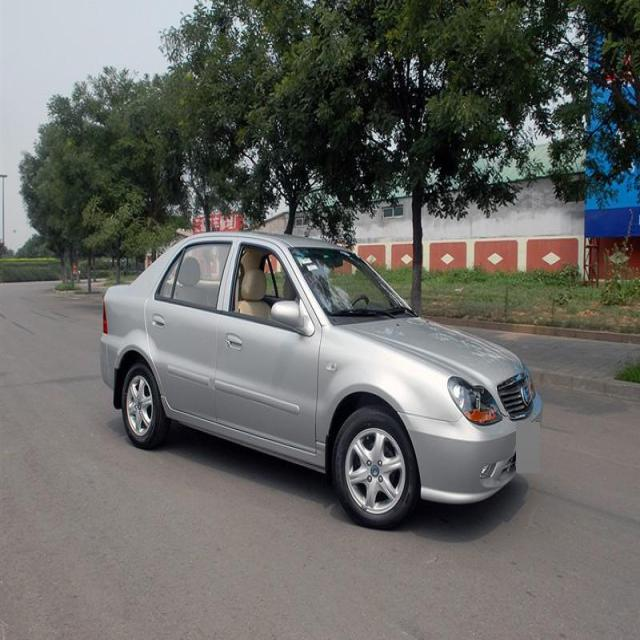door: (144, 239, 234, 427)
front_bumper: (397, 398, 542, 502)
front_glass: (287, 248, 417, 336)
front_right_side_door: (212, 235, 323, 463)
front_right_side_light: (446, 372, 502, 427)
front_right_side_mirror: (270, 297, 304, 331)
wheel: (333, 405, 416, 528), (121, 360, 162, 448)
